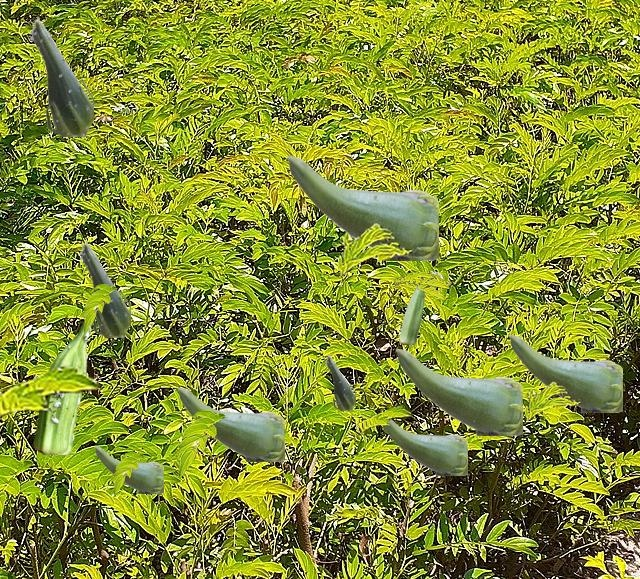okra: (286, 155, 437, 259), (395, 348, 521, 434), (508, 334, 621, 411), (177, 387, 283, 460), (34, 321, 91, 453), (29, 16, 92, 135), (79, 240, 129, 336), (382, 421, 466, 474), (94, 446, 162, 492), (325, 354, 354, 409), (399, 289, 423, 343)
